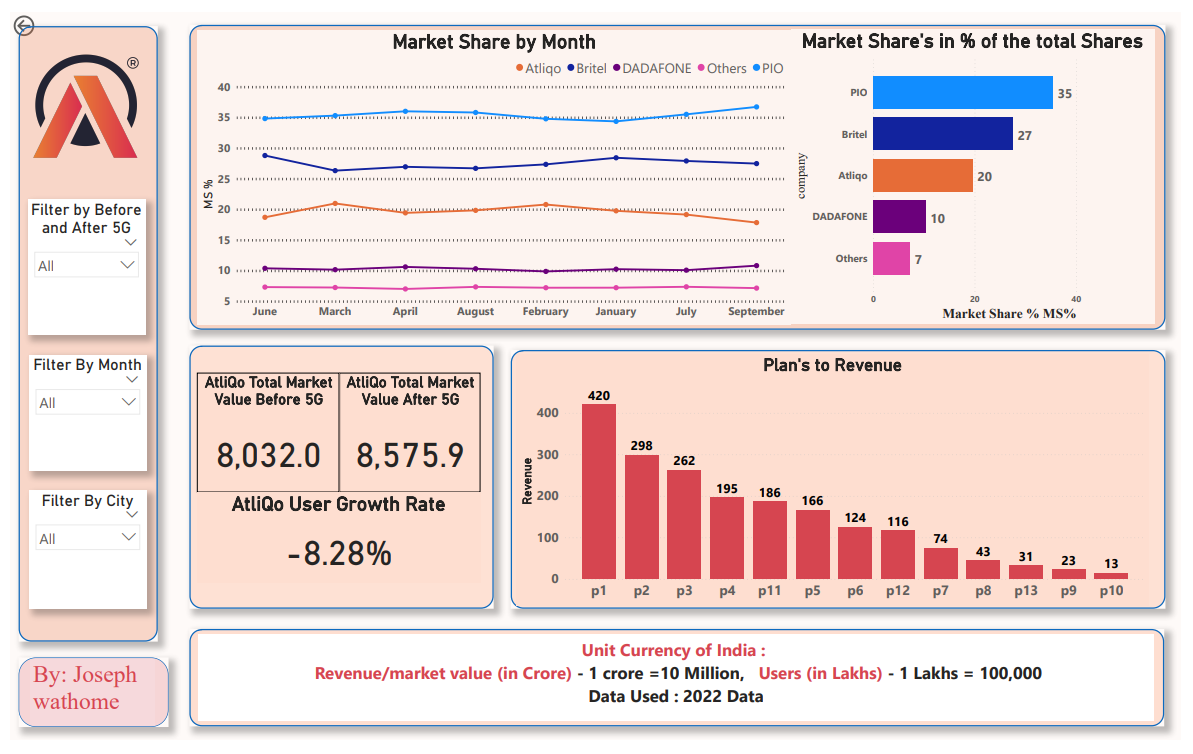

What the dashboard file says about the page in this screenshot:
{"tool":"powerbi","page":{"name":"Dashboard 2","canvas":[1850,1150],"ordinal":1},"visuals":[{"type":"actionButton","box":[0,0,100,43.4],"z":0,"group":"g2"},{"type":"group","id":"g1","title":"Group 2","box":[282.5,533.1,1542.5,463.4],"z":0},{"type":"shape","box":[282.5,533.1,1542.5,463.4],"z":0,"group":"g1"},{"type":"shape","box":[282.5,20,1542.5,481.7],"z":1000,"group":"g3"},{"type":"shape","box":[12.5,21.7,220,973.3],"z":1000,"group":"g2"},{"type":"textbox","box":[31.4,1020,197,110],"z":1000},{"type":"shape","box":[282.5,1020,1542.5,110],"z":1000},{"type":"lineChart","title":"Market Share by Month","fields":{"Category":["dim_date.Month Name"],"Series":["fact_market_share.company"],"Y":["Measures table.Market Share % MS%"]},"box":[295.4,27.9,938.4,466],"z":2000,"group":"g3"},{"type":"slicer","title":"Filter By Month","fields":{"Values":["dim_date.Month Name"]},"box":[30,542.2,185,181.6],"z":2000,"group":"g2"},{"type":"shape","box":[12.5,1020,237.5,110],"z":2000},{"type":"textbox","box":[295.4,1038.4,1509.1,81.2],"z":2000},{"type":"group","id":"g2","title":"Group 1","box":[0,0,232.5,995],"z":2007},{"type":"group","id":"g3","title":"Group 3","box":[282.5,20,1542.5,481.7],"z":3000},{"type":"clusteredColumnChart","title":"Plan''s and Revenue in Crore","fields":{"Category":["fact_plan_revenue.plans"],"Y":["Sum(fact_plan_revenue.plan_revenue_crores)"]},"box":[295.4,541,1509.1,447.7],"z":3000,"group":"g1"},{"type":"slicer","title":"Filter By City","fields":{"Values":["dim_cities.city_name"]},"box":[30,756.4,185,187.1],"z":3000,"group":"g2"},{"type":"clusteredBarChart","title":"Market Share by Company","fields":{"Category":["fact_market_share.company"],"Y":["Measures table.Market Share % MS%"]},"box":[1233.7,26.8,573.3,465.8],"z":4000,"group":"g3"},{"type":"slicer","title":"Filter by Before and After 5G","fields":{"Values":["dim_date.before/after_5g"]},"box":[27.5,295.5,185,214.2],"z":4000,"group":"g2"},{"type":"image","box":[30,27.1,182.5,241.3],"z":5000,"group":"g2"}]}

Visuals, with their boxes in screenshot pixels (x1, y1, x2, y2), scaled from the page's 1850x1150 canvas onto the 1193x754 screenshot:
actionButton: crop(0, 0, 64, 28)
"Group 2" group: crop(182, 350, 1177, 653)
shape: crop(182, 350, 1177, 653)
shape: crop(182, 13, 1177, 329)
shape: crop(8, 14, 150, 652)
textbox: crop(20, 669, 147, 741)
shape: crop(182, 669, 1177, 741)
"Market Share by Month" lineChart: crop(190, 18, 796, 324)
"Filter By Month" slicer: crop(19, 355, 139, 475)
shape: crop(8, 669, 161, 741)
textbox: crop(190, 681, 1164, 734)
"Group 1" group: crop(0, 0, 150, 652)
"Group 3" group: crop(182, 13, 1177, 329)
"Plan''s and Revenue in Crore" clusteredColumnChart: crop(190, 355, 1164, 648)
"Filter By City" slicer: crop(19, 496, 139, 619)
"Market Share by Company" clusteredBarChart: crop(796, 18, 1165, 323)
"Filter by Before and After 5G" slicer: crop(18, 194, 137, 334)
image: crop(19, 18, 137, 176)
